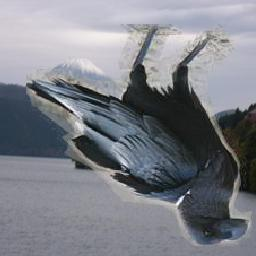Crow: (27, 24, 254, 246)
